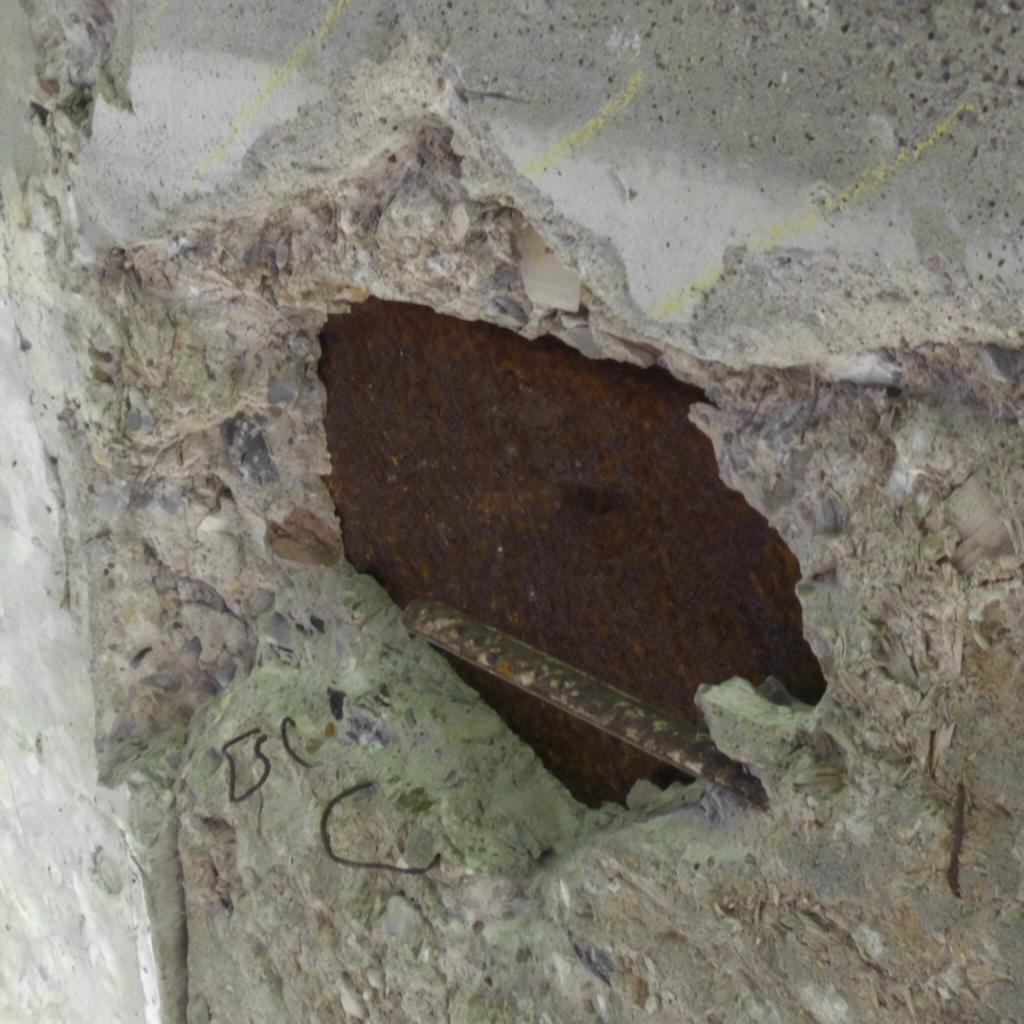exposed_rebar: (320, 298, 824, 805)
spalling: (88, 42, 1024, 1024)
